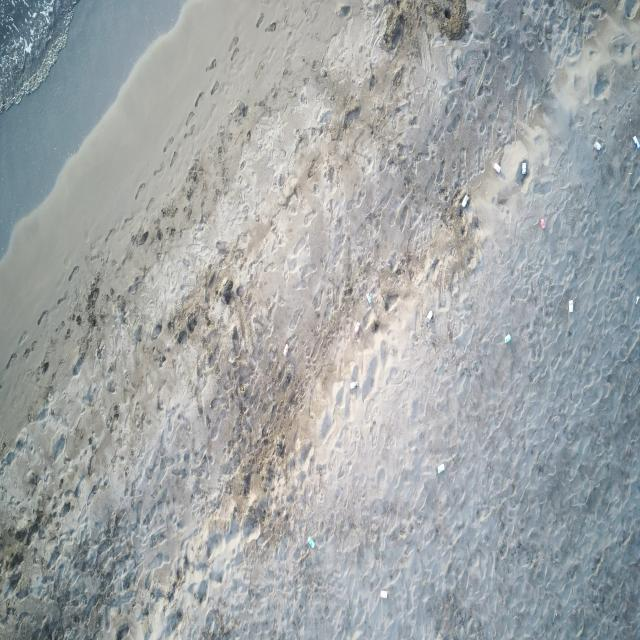tin-and-aluminum-cans: (632, 134, 640, 149), (379, 589, 389, 600), (437, 462, 445, 475), (461, 195, 469, 207), (504, 333, 512, 344), (494, 162, 501, 174), (308, 536, 315, 548), (568, 299, 574, 313), (594, 140, 601, 152), (283, 343, 289, 357), (521, 162, 527, 175), (354, 321, 360, 334), (350, 380, 358, 389), (366, 292, 372, 304), (427, 310, 433, 322), (540, 218, 546, 229)
